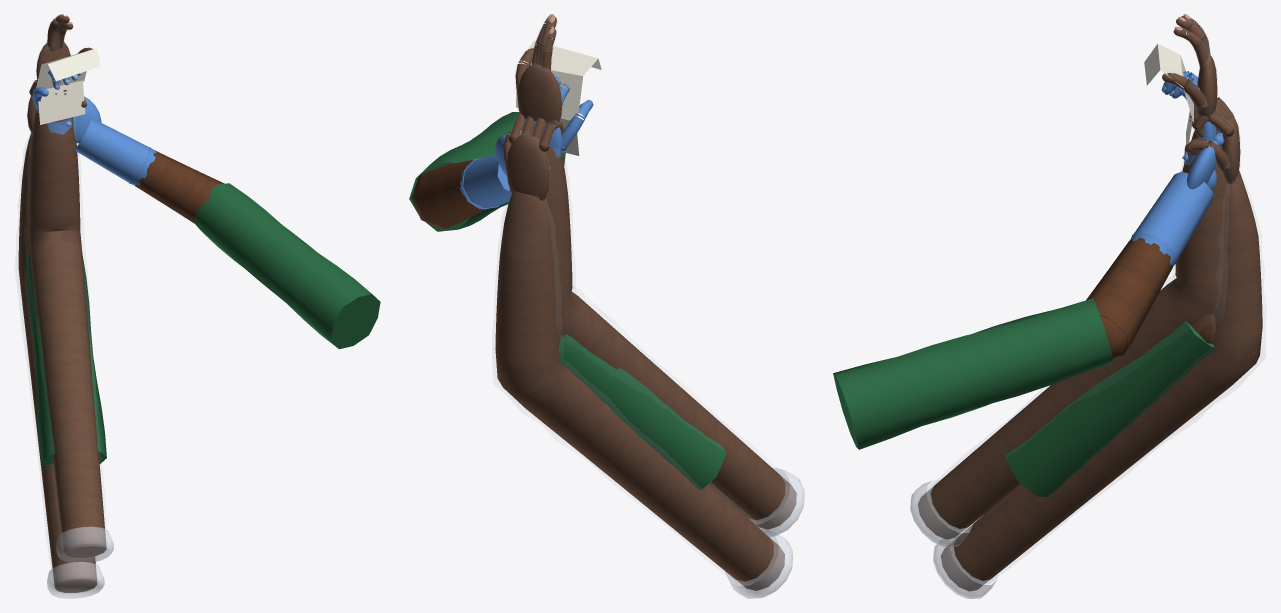
Rendered from arms-C39dFfb9.glb.
3 views of the same model, side by side, from view 1: azimuth 30°, elevation 25°; view 2: azimuth 150°, elevation 25°; view 3: azimuth 270°, elevation 25° (orthographic). The views are drawn at different scales.
Parts seen in each view (by area): view 1: ARM_left_sleeve, ARM_right_gun, ARM_right_towel, ARM_left_tail, ARM_left_hand; view 2: ARM_left_tail, ARM_left_sleeve, ARM_right_towel, ARM_right_gun, ARM_left_hand; view 3: ARM_right_gun, ARM_left_tail, ARM_left_sleeve, ARM_right_towel, ARM_left_hand.
Part boxes in pixels (x1,y1,x2,y2): ARM_left_sleeve: (28,109,113,562); ARM_right_gun: (66,96,380,349); ARM_right_towel: (26,48,106,466); ARM_left_tail: (18,80,104,598); ARM_left_hand: (36,14,92,81); ARM_left_tail: (495,113,792,598); ARM_left_sleeve: (511,146,804,536); ARM_right_towel: (516,40,725,490); ARM_right_gun: (409,112,565,231); ARM_left_hand: (515,14,562,125); ARM_right_gun: (833,127,1224,449); ARM_left_tail: (933,97,1265,598); ARM_left_sleeve: (910,129,1227,546); ARM_right_towel: (1005,43,1215,497); ARM_left_hand: (1162,14,1217,117).
Bounding box in the file's own units: 0.5986 × 1.02 × 0.6434.
Materials: 11 (2 with a texture image).
